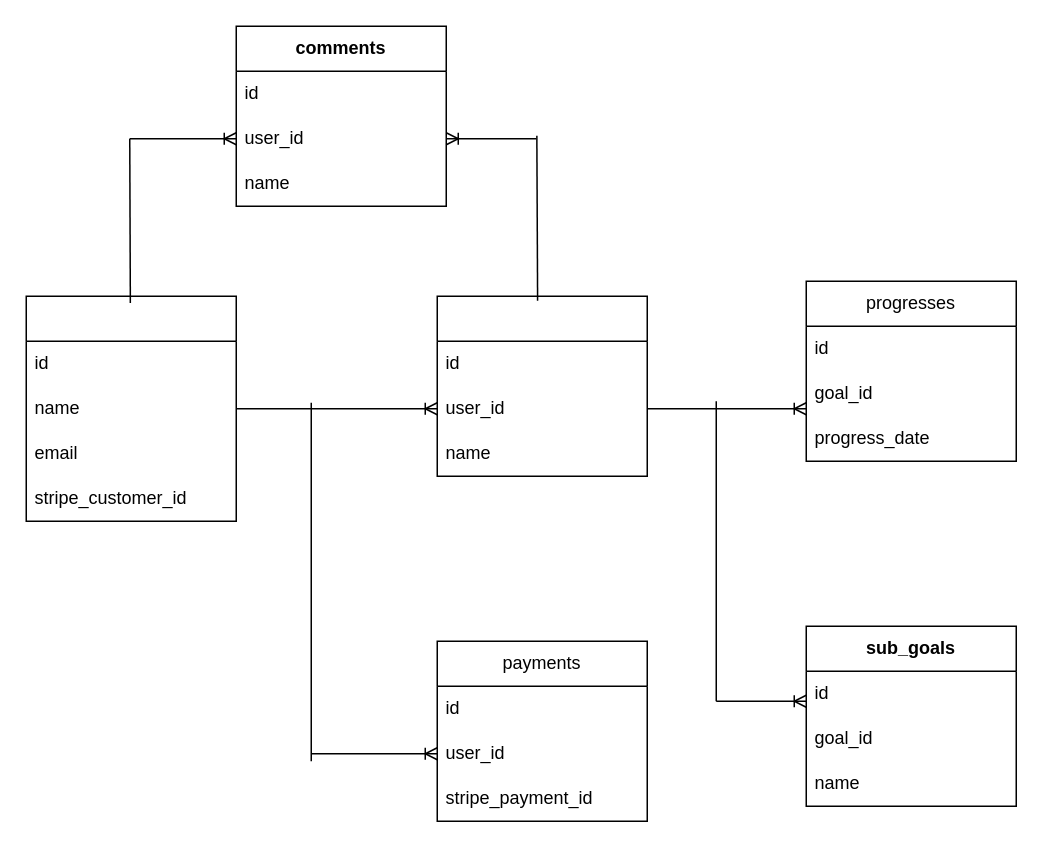
This 1043x848 diagram has some shape labels left out. The box of each missing label's shape, as (x1, y1, x2, y2) in pixels:
goals: (436, 295, 647, 476)
users: (25, 295, 236, 521)
